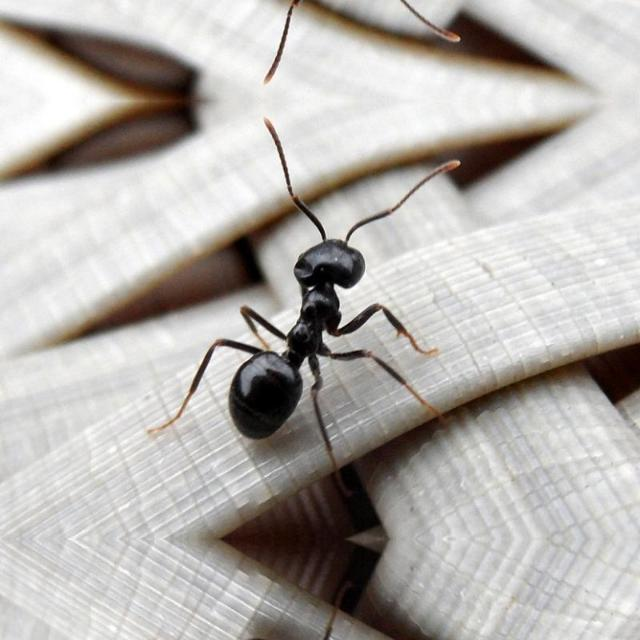Lasius: (212, 208, 404, 440)
